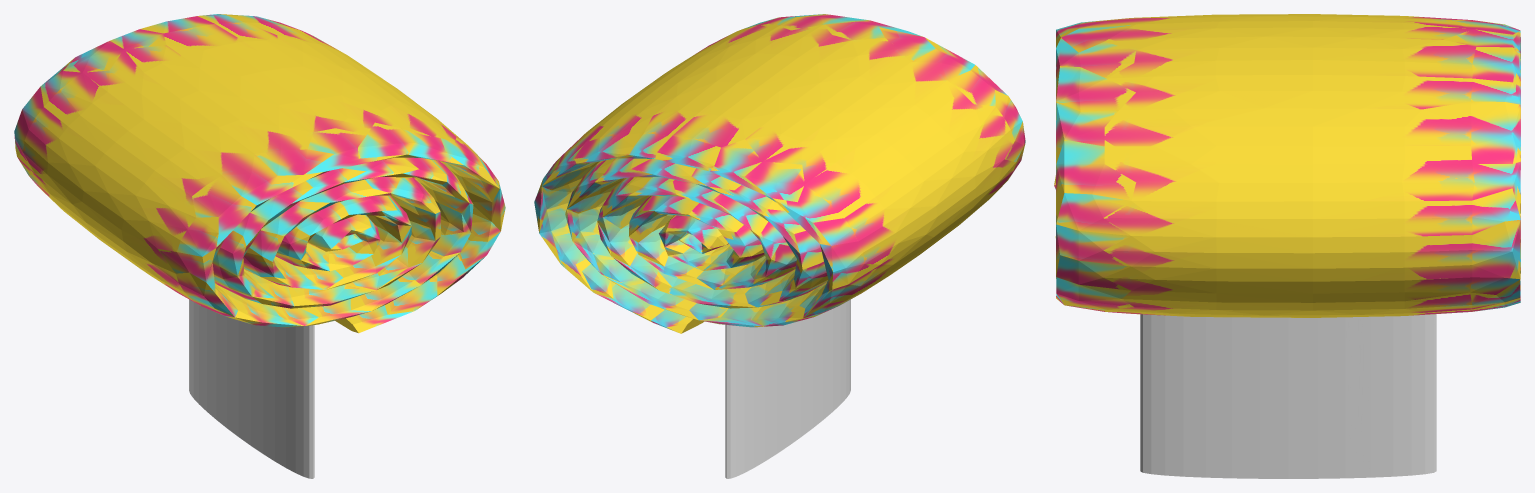
Rendered from sucette.obj.
3 renders of one model, left to right at view 1: azimuth 30°, elevation 25°; view 2: azimuth 150°, elevation 25°; view 3: azimuth 270°, elevation 25°, orthographic. The views are drawn at different scales.
Visible parts, largest first — view 1: sucette_Cube.001; view 2: sucette_Cube.001; view 3: sucette_Cube.001.
Part boxes in pixels (left/top/right/bottom): sucette_Cube.001: left=14, top=14, right=505, bottom=478; sucette_Cube.001: left=534, top=14, right=1025, bottom=478; sucette_Cube.001: left=1054, top=14, right=1520, bottom=478.
Bounding box in the file's own units: 1 × 1 × 1.
